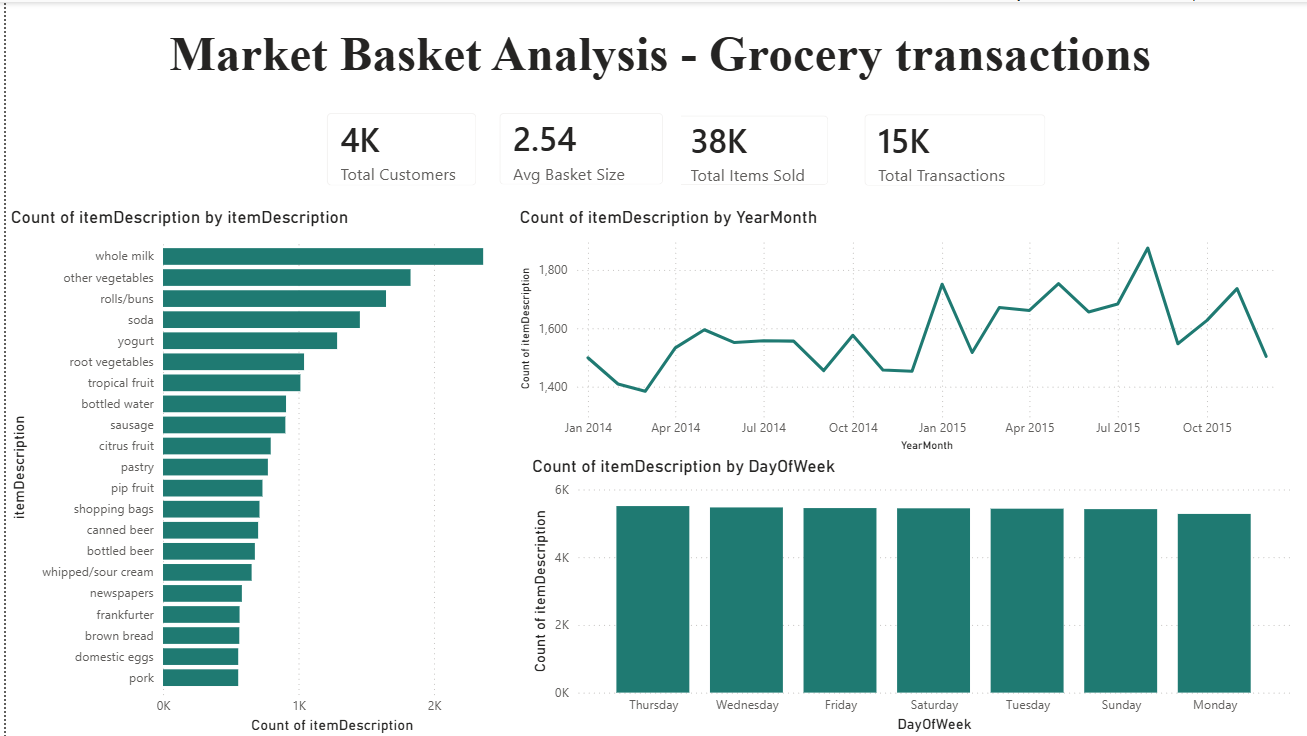

What the dashboard file says about the page in this screenshot:
{"tool":"powerbi","page":{"name":"Page 1","canvas":[1280,720],"ordinal":0},"visuals":[{"type":"cardVisual","fields":{"Data":["transactions_clean.Total Transactions"]},"box":[822.9,92.9,211.4,104.3],"z":0},{"type":"cardVisual","fields":{"Data":["transactions_clean.Total Customers"]},"box":[297.1,91.4,180,105.7],"z":1000},{"type":"cardVisual","fields":{"Data":["transactions_clean.Total Items Sold"]},"box":[640,94.3,182.9,102.9],"z":2000},{"type":"cardVisual","fields":{"Data":["transactions_clean.Avg Basket Size"]},"box":[465.7,91.4,194.3,104.3],"z":3000},{"type":"clusteredBarChart","fields":{"Category":["transactions_clean.itemDescription"],"Y":["CountNonNull(transactions_clean.itemDescription)"]},"box":[0,200,497.1,520],"z":4000},{"type":"lineChart","fields":{"Y":["CountNonNull(transactions_clean.itemDescription)"],"Category":["transactions_clean.YearMonth"]},"box":[497.1,200,764.3,244.3],"z":5000},{"type":"clusteredColumnChart","fields":{"Category":["transactions_clean.DayOfWeek"],"Y":["CountNonNull(transactions_clean.itemDescription)"]},"box":[510,444.3,751.4,275.7],"z":6000},{"type":"textbox","box":[0,18.6,1280,75.7],"z":7000}]}

Visuals, with their boxes in screenshot pixels (x1, y1, x2, y2), scaled from the page's 1280x720 canvas onto the 1307x736 screenshot:
cardVisual - transactions_clean.Total Transactions: bbox=(840, 95, 1056, 202)
cardVisual - transactions_clean.Total Customers: bbox=(303, 93, 487, 201)
cardVisual - transactions_clean.Total Items Sold: bbox=(654, 96, 840, 202)
cardVisual - transactions_clean.Avg Basket Size: bbox=(476, 93, 674, 200)
clusteredBarChart - transactions_clean.itemDescription x CountNonNull(transactions_clean.itemDescription): bbox=(0, 204, 508, 735)
lineChart - CountNonNull(transactions_clean.itemDescription) x transactions_clean.YearMonth: bbox=(508, 204, 1288, 454)
clusteredColumnChart - transactions_clean.DayOfWeek x CountNonNull(transactions_clean.itemDescription): bbox=(521, 454, 1288, 735)
textbox: bbox=(0, 19, 1306, 96)
